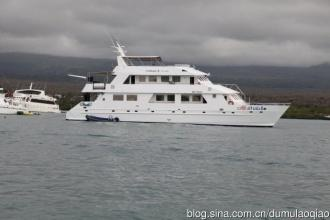yacht: (61, 42, 293, 125), (14, 85, 61, 112)
